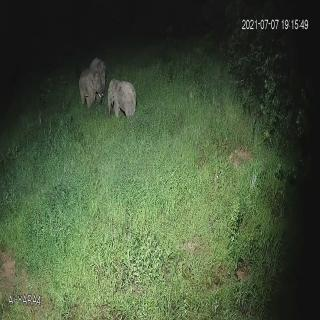Elephant: (78, 56, 106, 111), (108, 77, 138, 123)
